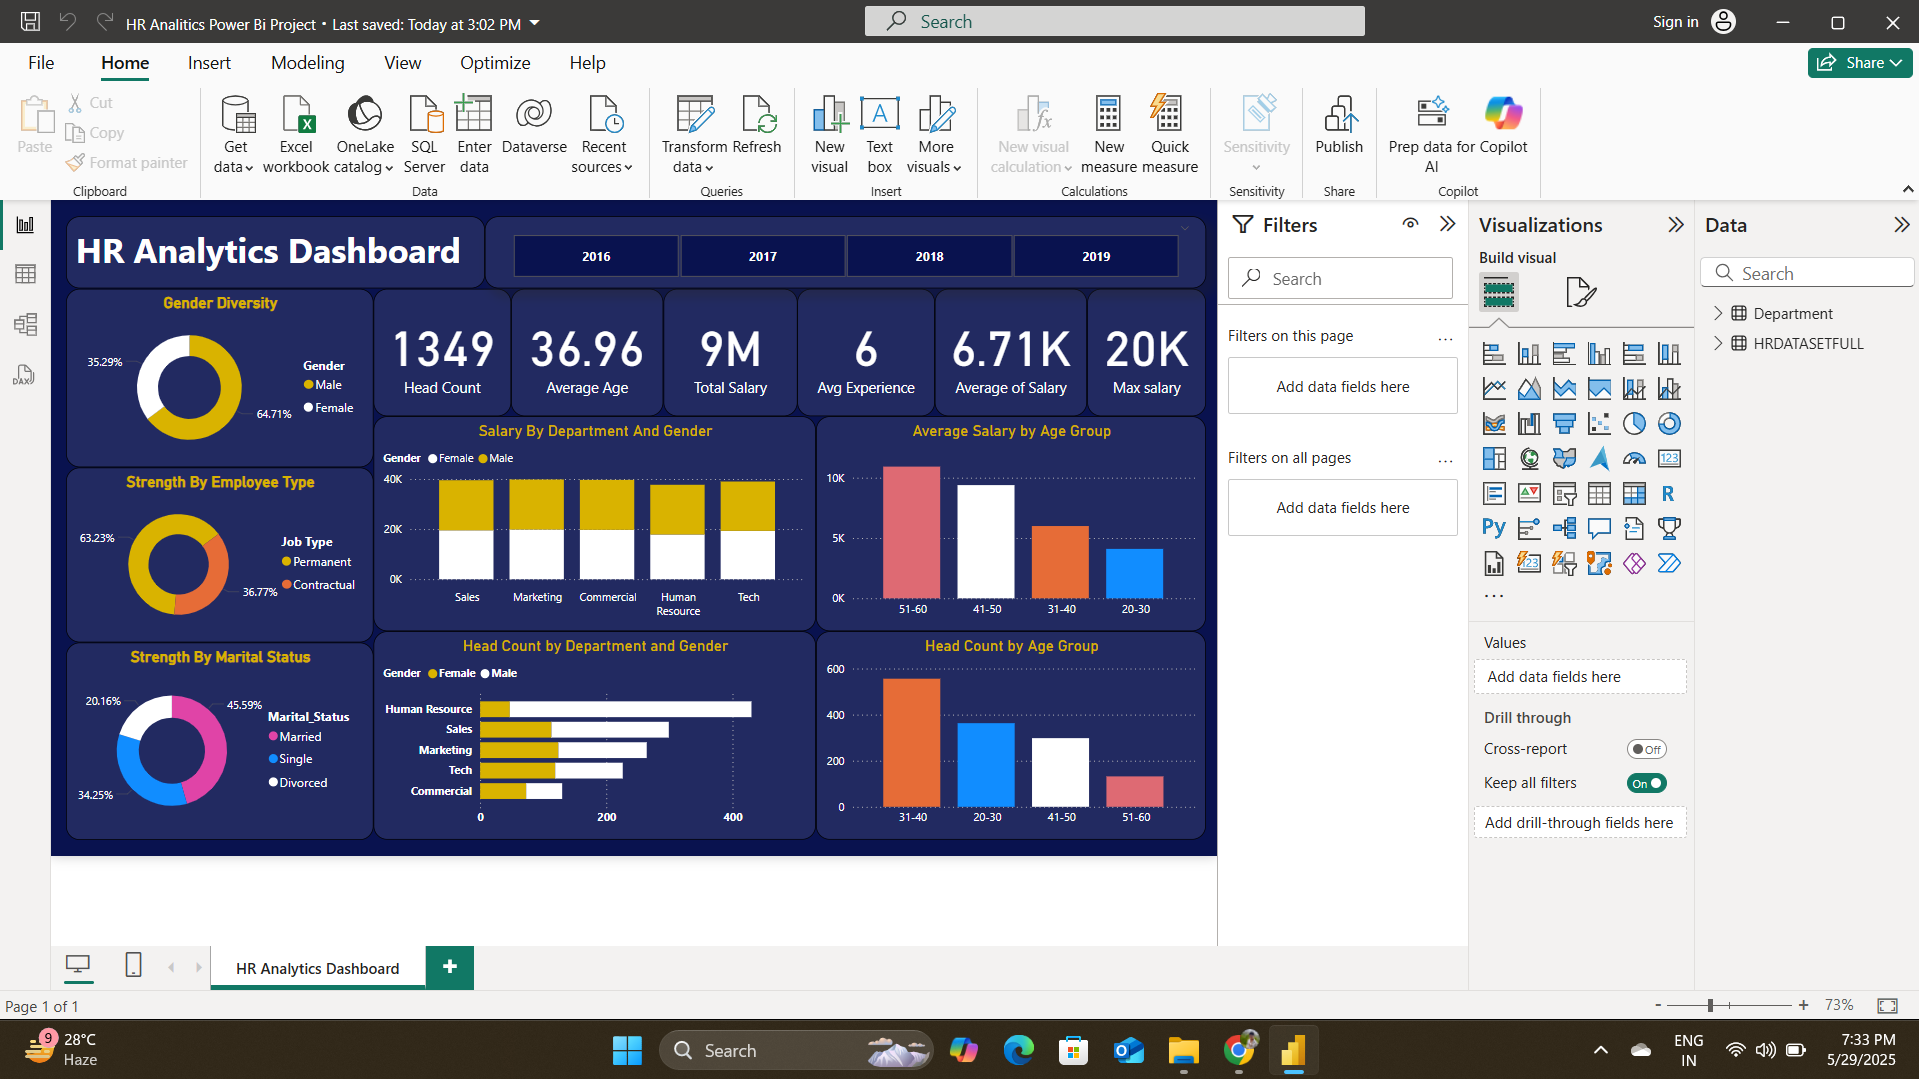

The dashboard page shown, as its layout file describes it:
{"tool":"powerbi","page":{"name":"HR Analytics Dashboard","canvas":[1280,720],"ordinal":0},"visuals":[{"type":"card","fields":{"Values":["HRDATASETFULL.Head Count"]},"box":[354,97.4,150.9,140],"z":0},{"type":"card","fields":{"Values":["Sum(HRDATASETFULL.Salary)"]},"box":[672.4,97.4,146.8,140],"z":1000},{"type":"card","fields":{"Values":["Avg(HRDATASETFULL.Age)"]},"box":[505,97.4,167.4,140],"z":2000},{"type":"card","fields":{"Values":["Min(HRDATASETFULL.Experience)"]},"box":[819.2,97.4,150.9,140],"z":3000},{"type":"card","fields":{"Values":["HRDATASETFULL.Max salary"]},"box":[1137.6,97.4,130.4,140],"z":4000},{"type":"card","fields":{"Values":["Avg(HRDATASETFULL.Salary)"]},"box":[970.2,97.4,167.4,140],"z":5000},{"type":"textbox","box":[16.5,17.8,459.7,79.6],"z":6000},{"type":"donutChart","title":"Gender Diversity","fields":{"Category":["HRDATASETFULL.Gender"],"Y":["HRDATASETFULL.Head Count"]},"box":[16.5,97.4,337.6,196.2],"z":7000},{"type":"donutChart","title":"Strength By Employee Type","fields":{"Y":["HRDATASETFULL.Head Count"],"Category":["HRDATASETFULL.Job Type"]},"box":[16.5,293.7,337.6,192.1],"z":8000},{"type":"donutChart","title":"Strength By Marital Status","fields":{"Y":["HRDATASETFULL.Head Count"],"Category":["HRDATASETFULL.Marital_Status"]},"box":[16.5,485.8,337.6,216.8],"z":9000},{"type":"columnChart","title":"Salary By Department And Gender ","fields":{"Category":["HRDATASETFULL.Department_Name"],"Y":["HRDATASETFULL.Max salary"],"Series":["HRDATASETFULL.Gender"]},"box":[354,237.4,485.8,236],"z":10000},{"type":"barChart","title":"Head Count by Department and Gender","fields":{"Category":["HRDATASETFULL.Department_Name"],"Y":["HRDATASETFULL.Head Count"],"Series":["HRDATASETFULL.Gender"]},"box":[354,473.4,485.8,229.2],"z":11000},{"type":"columnChart","fields":{"Category":["HRDATASETFULL.Age Group"],"Y":["HRDATASETFULL.Average Salary"]},"box":[839.8,237.4,428.1,236],"z":12000},{"type":"columnChart","fields":{"Category":["HRDATASETFULL.Age Group"],"Y":["HRDATASETFULL.Head Count"]},"box":[839.8,473.4,428.1,229.2],"z":13000},{"type":"slicer","fields":{"Values":["HRDATASETFULL.Hire_Date.Variation.Date Hierarchy.Year"]},"box":[476.2,17.8,791.8,79.6],"z":14000}]}

Visuals, with their boxes on the page's 1280x720 design canvas (x1, y1, x2, y2). These are canvas units, not pixel positions in the 1919x1079 screenshot, which may show the page scaled, cropped or inside an application window:
card - HRDATASETFULL.Head Count: [x1=354, y1=97, x2=505, y2=237]
card - Sum(HRDATASETFULL.Salary): [x1=672, y1=97, x2=819, y2=237]
card - Avg(HRDATASETFULL.Age): [x1=505, y1=97, x2=672, y2=237]
card - Min(HRDATASETFULL.Experience): [x1=819, y1=97, x2=970, y2=237]
card - HRDATASETFULL.Max salary: [x1=1138, y1=97, x2=1268, y2=237]
card - Avg(HRDATASETFULL.Salary): [x1=970, y1=97, x2=1138, y2=237]
textbox: [x1=16, y1=18, x2=476, y2=97]
"Gender Diversity" donutChart: [x1=16, y1=97, x2=354, y2=294]
"Strength By Employee Type" donutChart: [x1=16, y1=294, x2=354, y2=486]
"Strength By Marital Status" donutChart: [x1=16, y1=486, x2=354, y2=703]
"Salary By Department And Gender " columnChart: [x1=354, y1=237, x2=840, y2=473]
"Head Count by Department and Gender" barChart: [x1=354, y1=473, x2=840, y2=703]
columnChart - HRDATASETFULL.Age Group x HRDATASETFULL.Average Salary: [x1=840, y1=237, x2=1268, y2=473]
columnChart - HRDATASETFULL.Age Group x HRDATASETFULL.Head Count: [x1=840, y1=473, x2=1268, y2=703]
slicer - HRDATASETFULL.Hire_Date.Variation.Date Hierarchy.Year: [x1=476, y1=18, x2=1268, y2=97]
